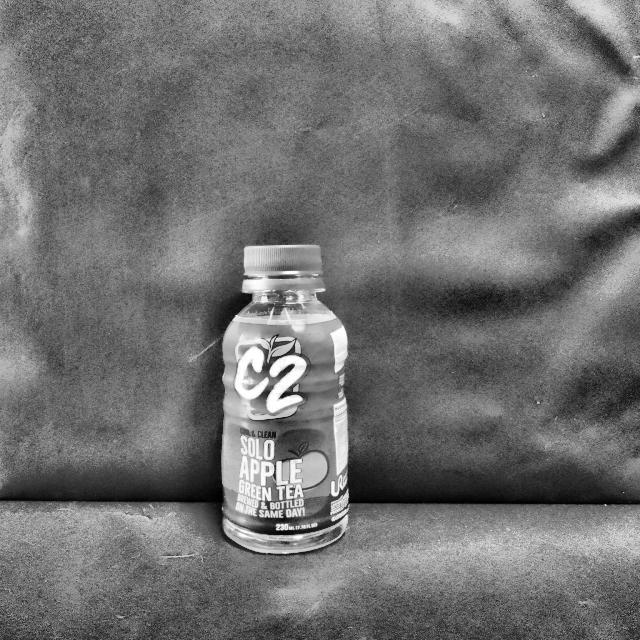Plastic-Bottle: (213, 242, 357, 557)
